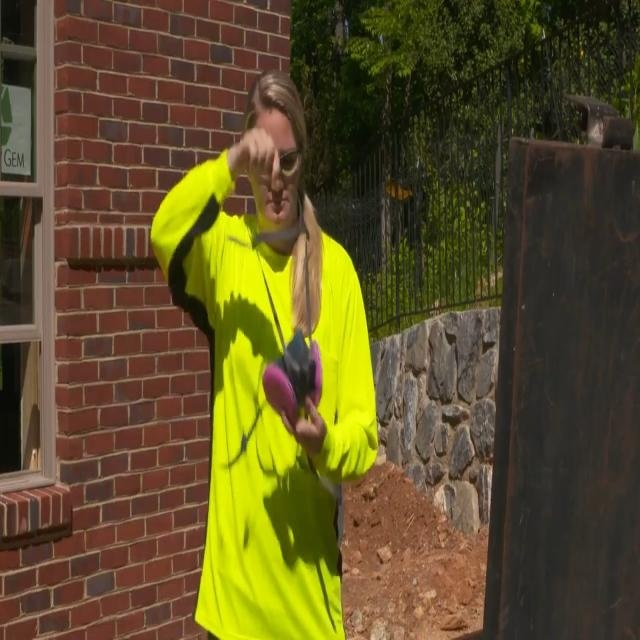Mask: (263, 326, 325, 429)
NO-Hardhat: (243, 70, 304, 136)
NO-Mask: (257, 184, 299, 231)
NO-Safety Vest: (211, 216, 340, 640)
Person: (152, 66, 380, 640)
